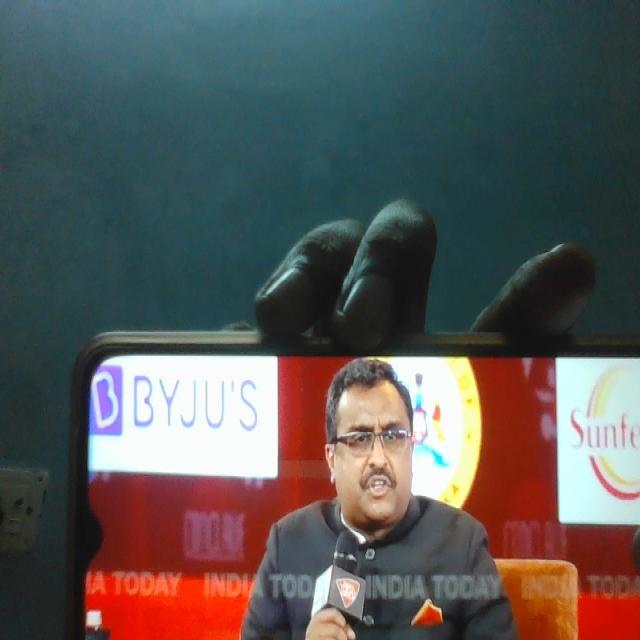fake: (326, 352, 428, 544)
